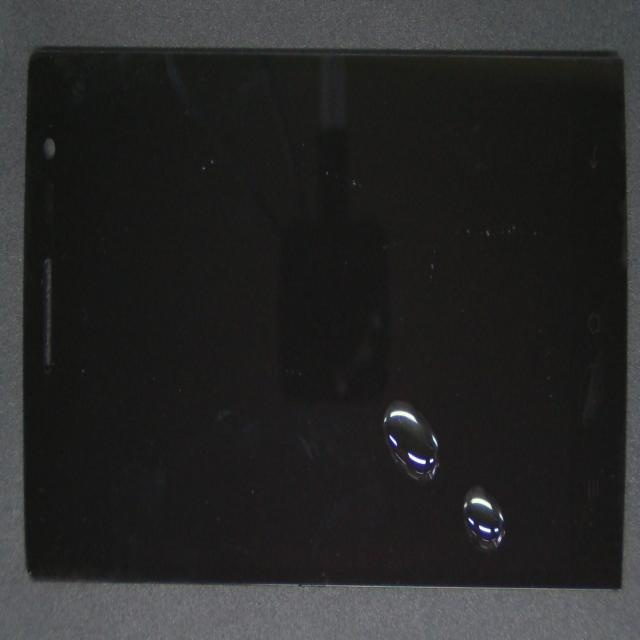oil: (242, 242, 640, 640), (271, 268, 640, 640)
